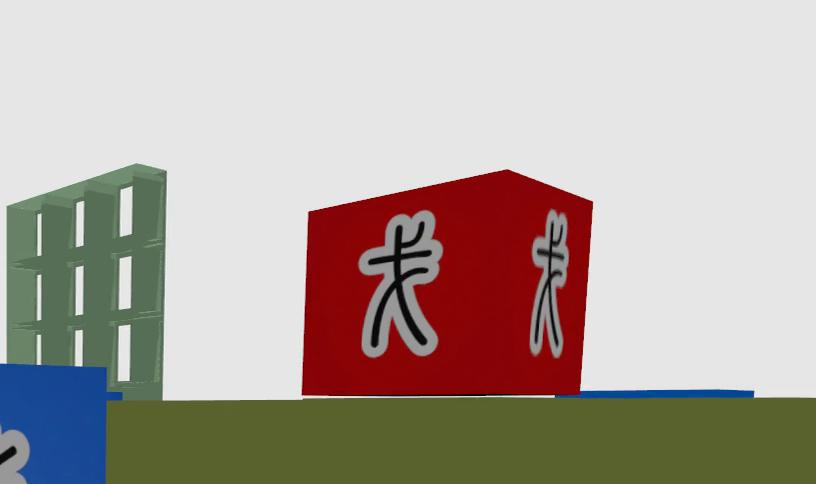KFS_FAKE: (302, 171, 592, 394), (359, 211, 442, 357), (529, 210, 568, 357)
KFS_REAL: (0, 364, 106, 484), (0, 426, 29, 484)
